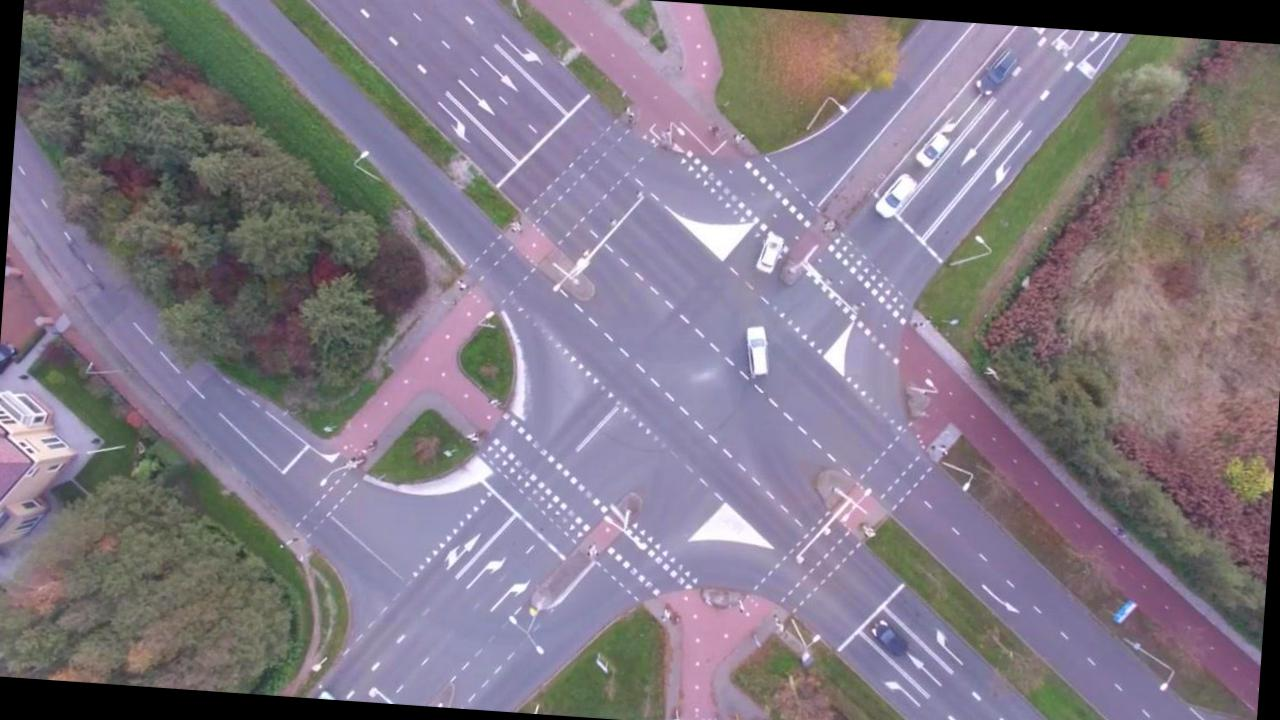vehicle: (974, 44, 1022, 98), (872, 170, 919, 221), (741, 323, 776, 380), (869, 618, 909, 658), (754, 230, 786, 276), (914, 130, 950, 169)
